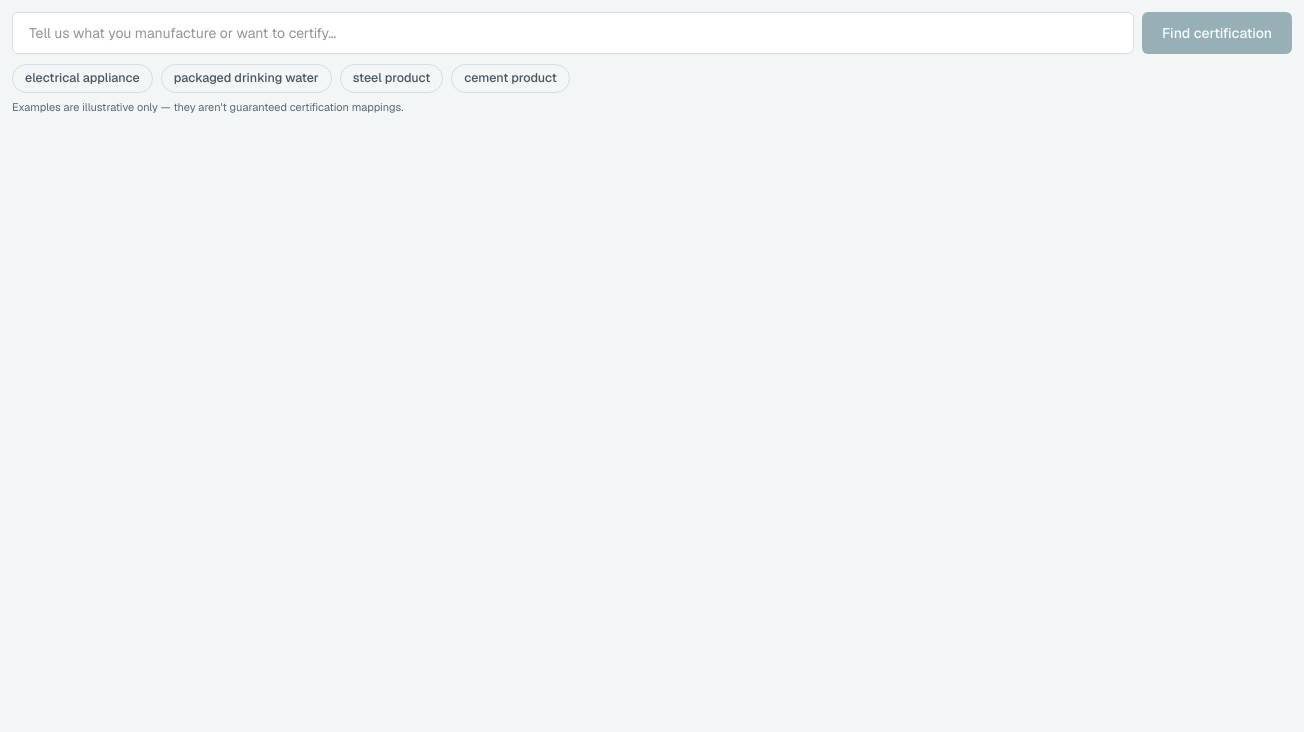
Scenario: CertificationDiscovery › certification.available renders via InfoCard when the engine actually returns notes
Type "steel" into the field with placeholder "Tell us what you manufacture or want to certify…" at [573, 33], box [12,12,1134,54]
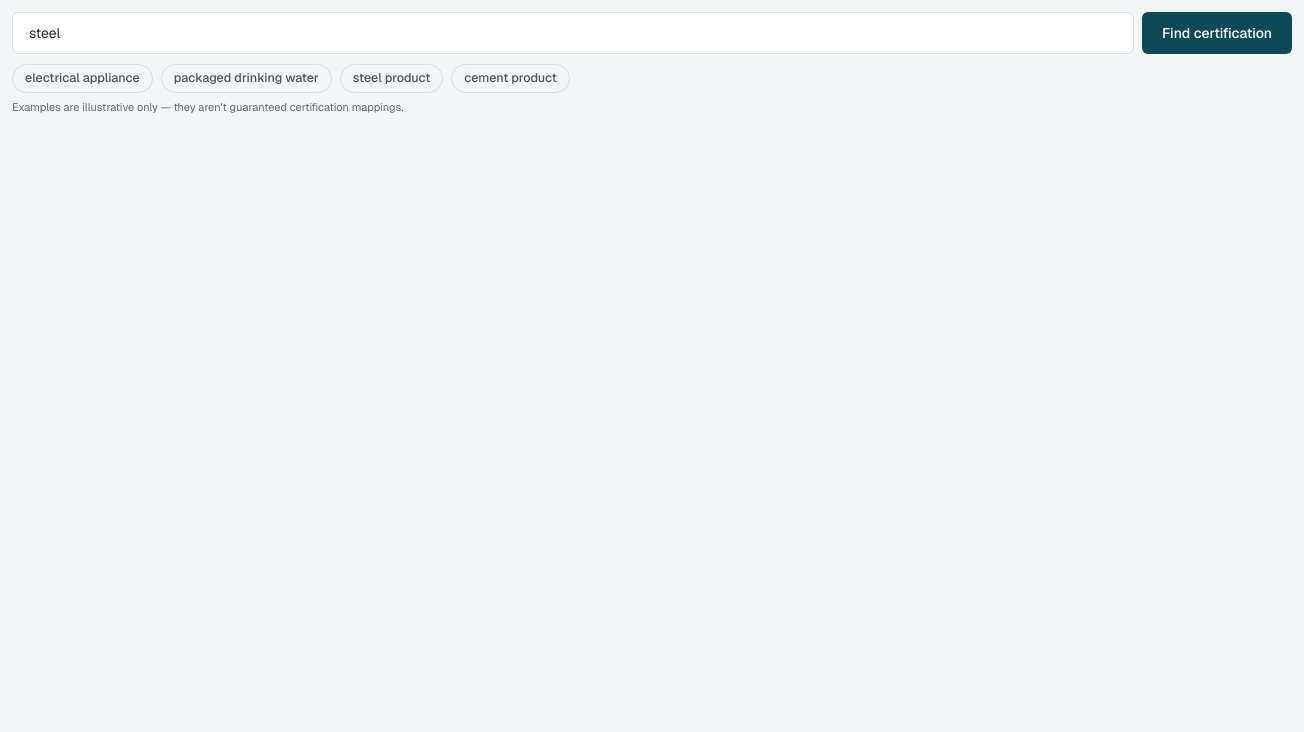
Click the button "Find certification" at [1217, 33], box [1142,12,1292,54]
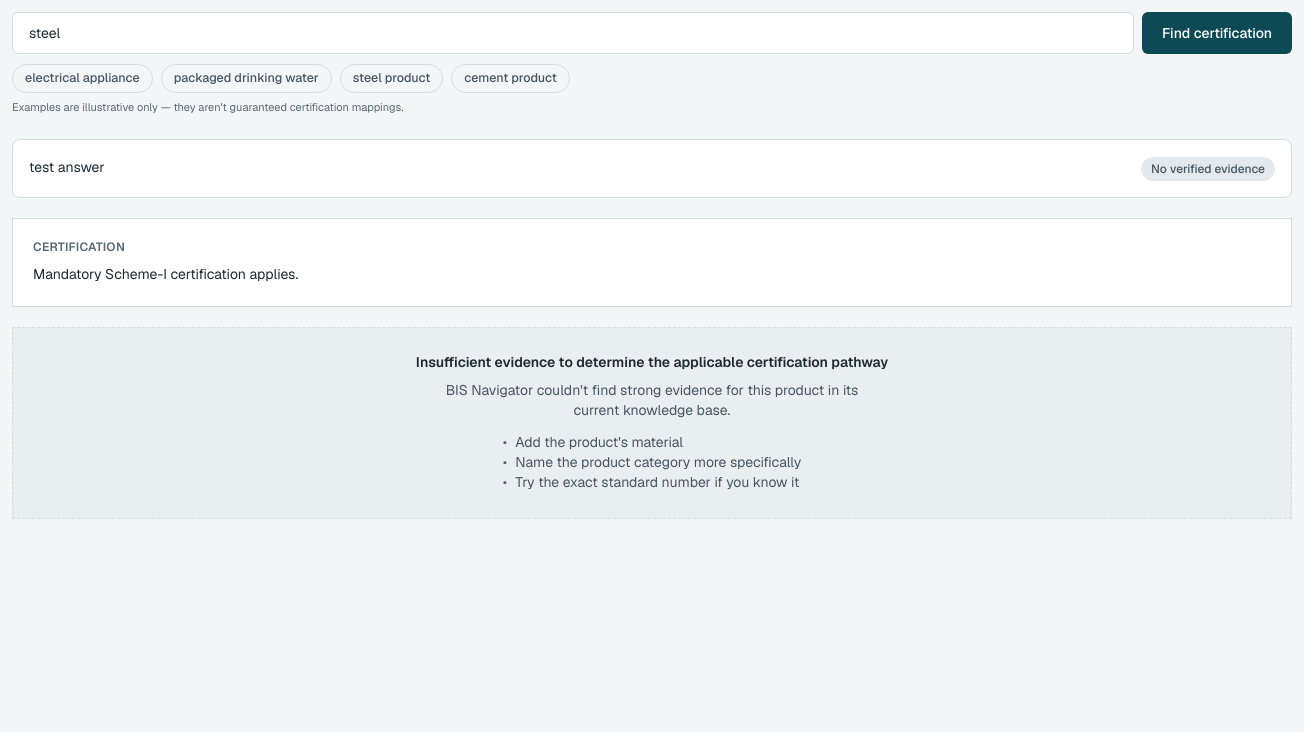
Now the text "Mandatory Scheme-I certification applies." is shown, box [33,265,298,283]
